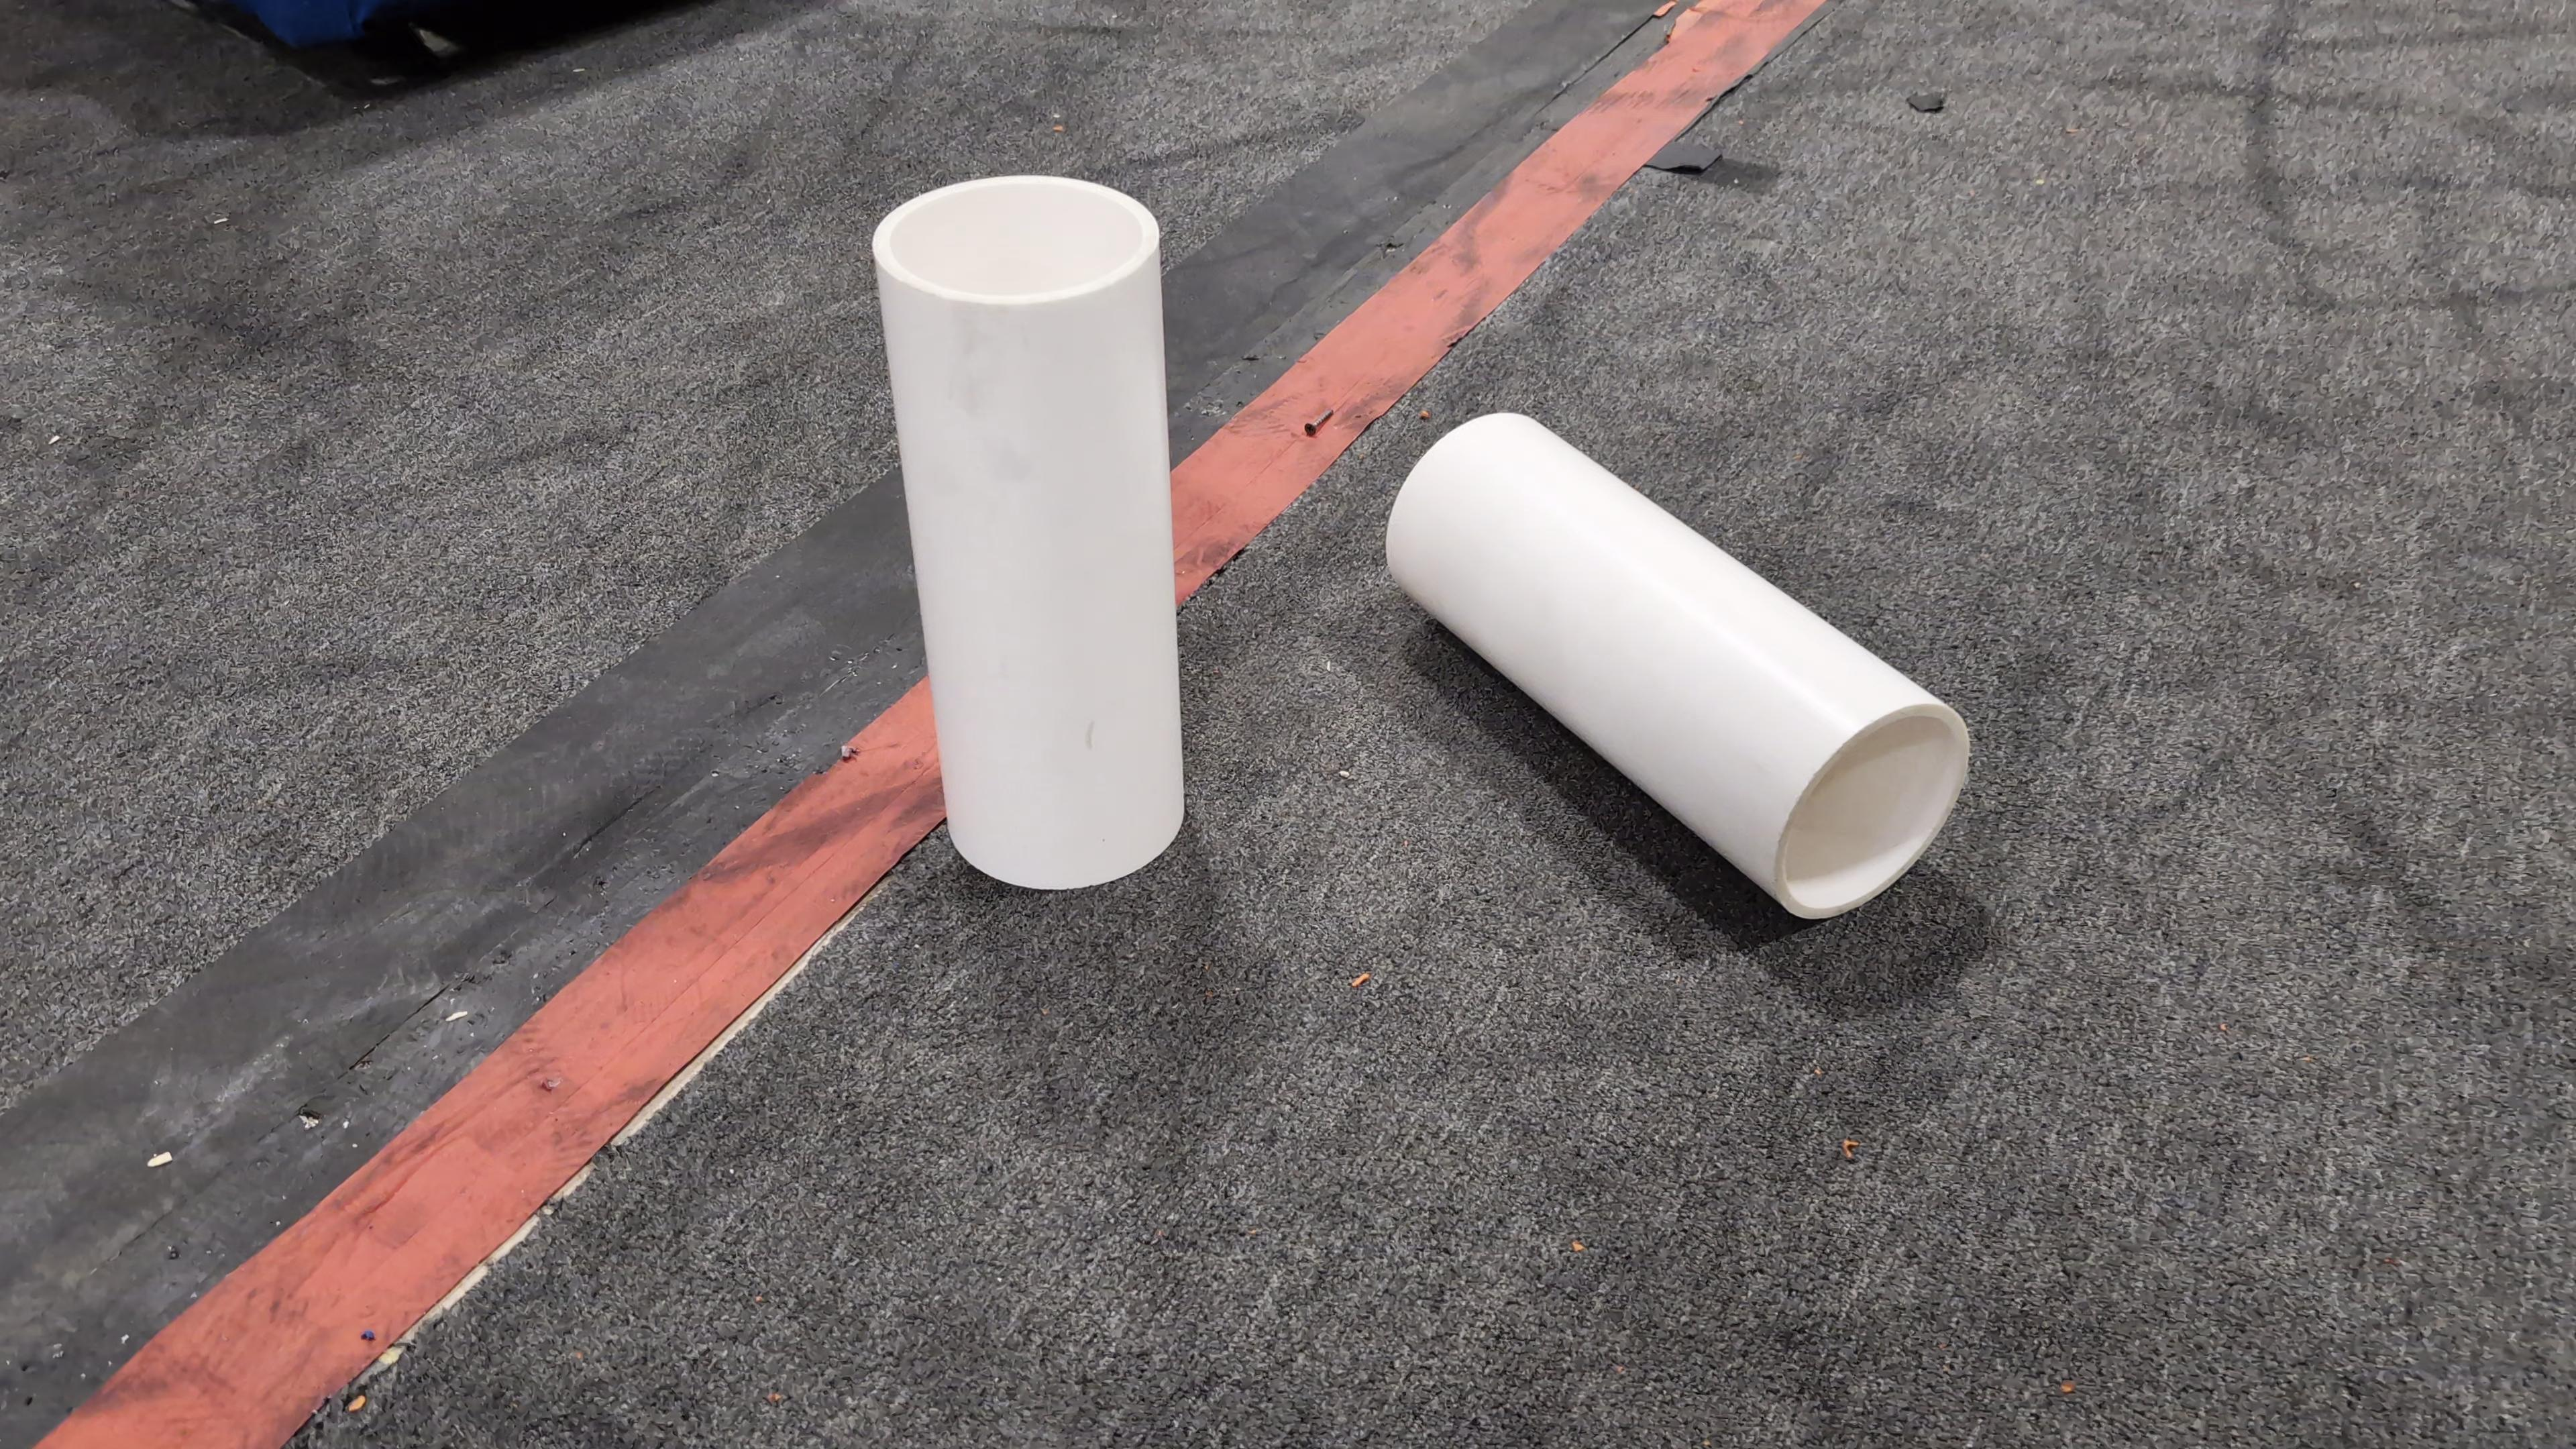coral: (1387, 414, 1969, 918), (874, 175, 1184, 886)
